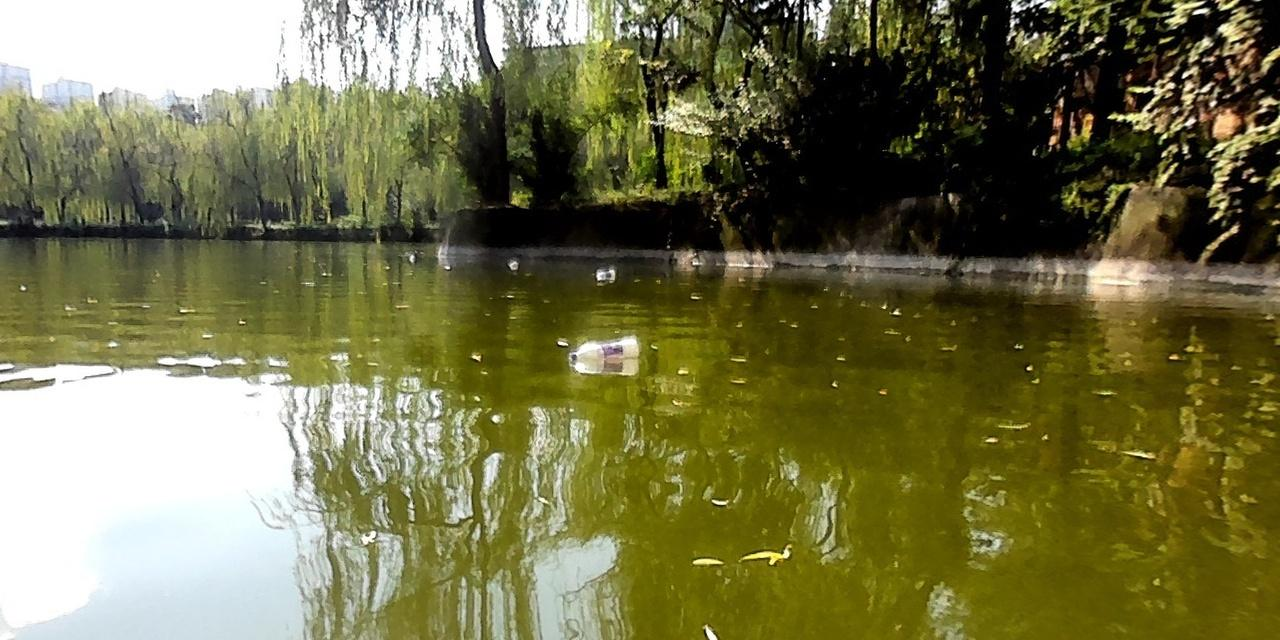bottle: (564, 330, 640, 366), (594, 266, 616, 281)
